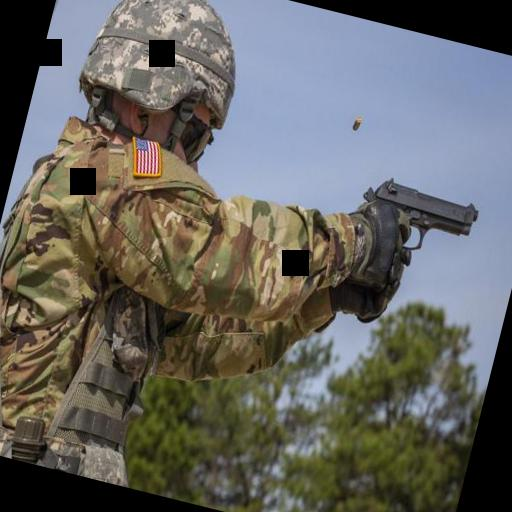Handgun: (351, 165, 484, 268)
